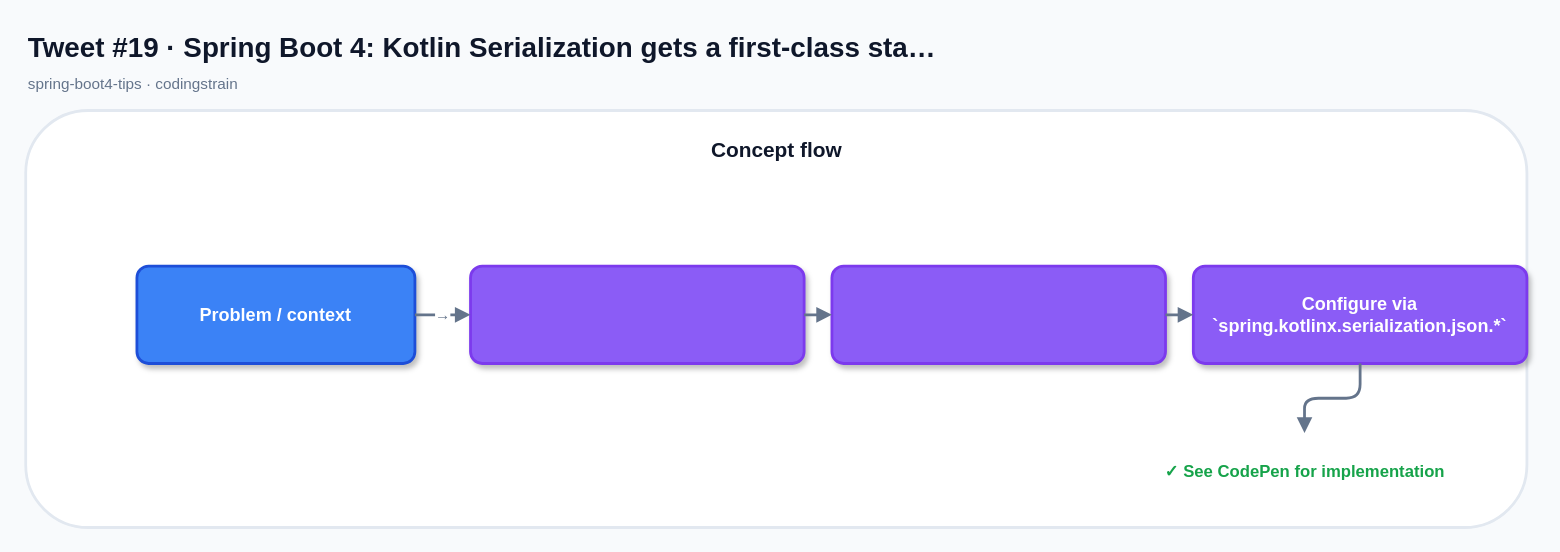
The diagram is 1560 pixels wide and 552 high, and some of its shapes have lost their labels. The centre of each missing label's shape, as x and y in pixels:
`spring-boot-starter-kotlinx-serialization-json`: pixel 638 316
Contributes a `Json` bean + HTTP converter: pixel 999 316
